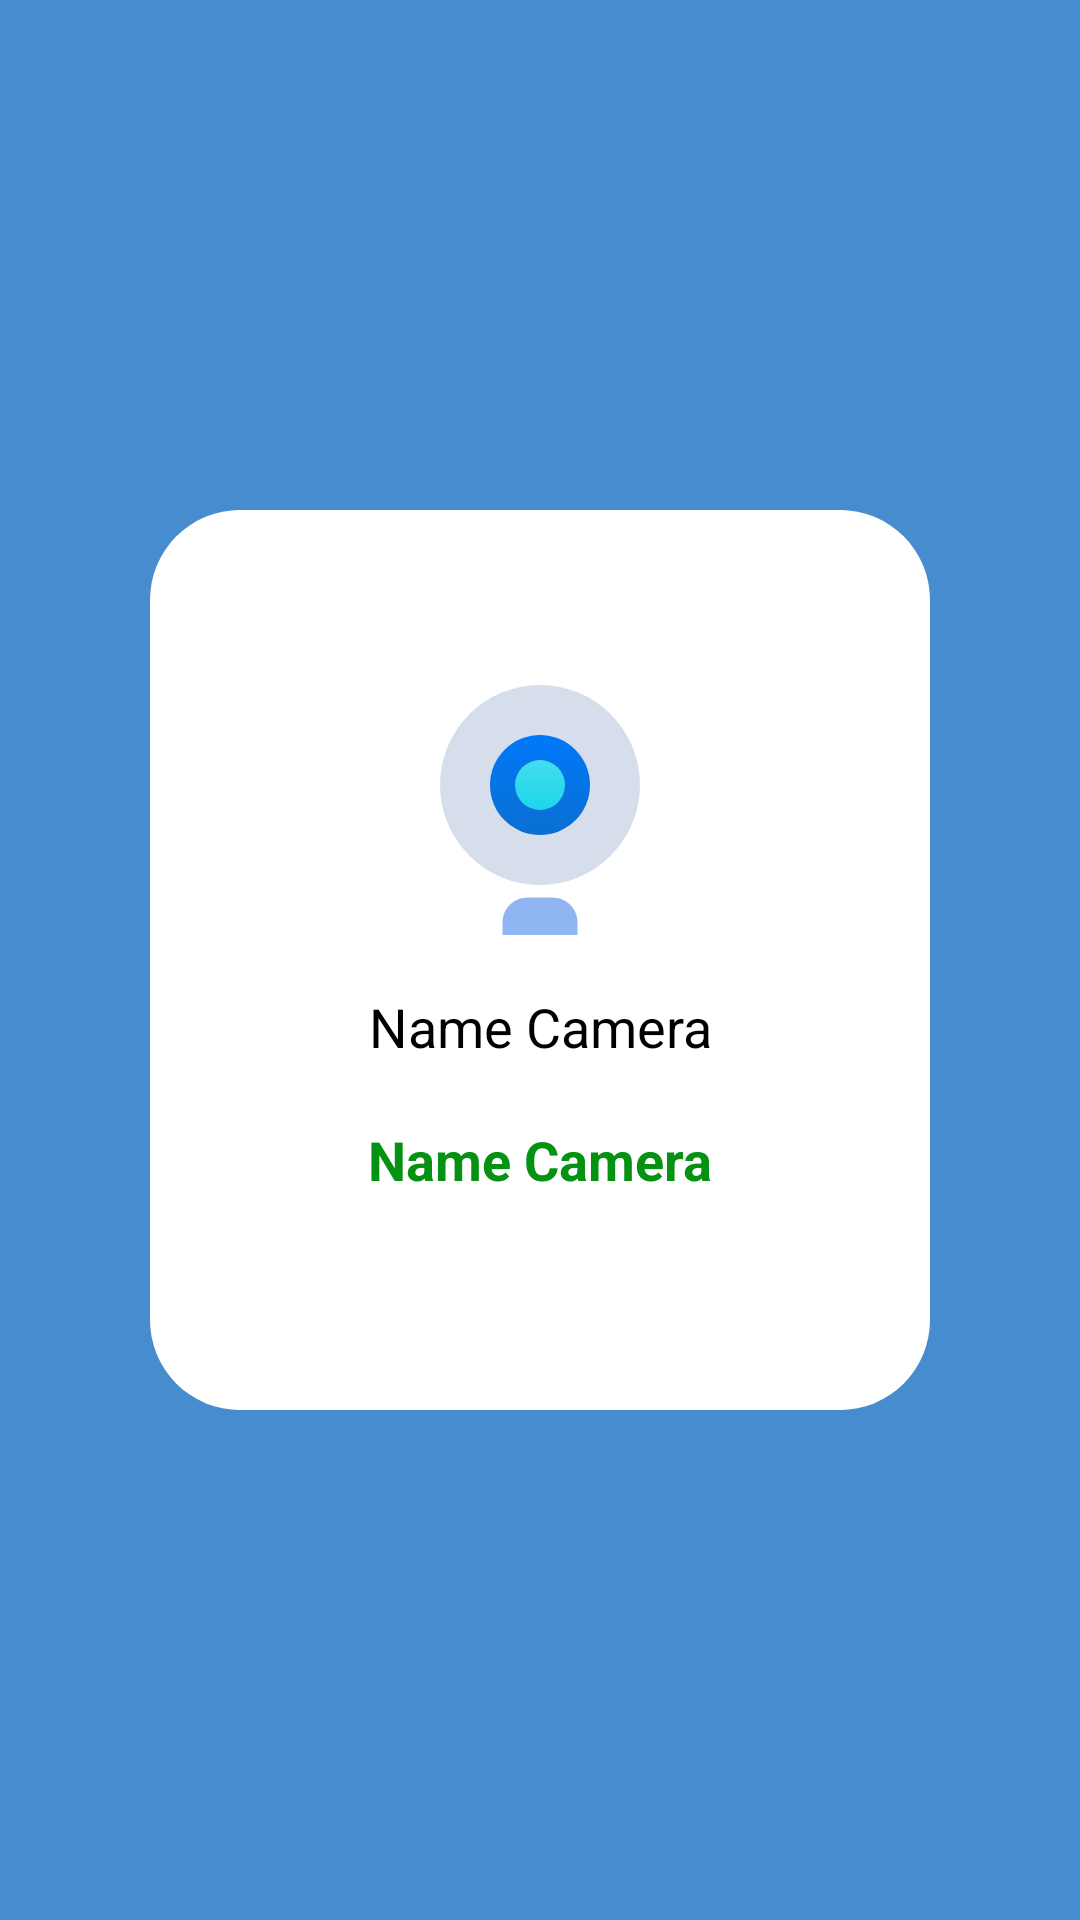

Icons on this 1080x1920 Android screen, each with the point to tap as (x=x, y=y):
camera indoor: (x=540, y=810)
